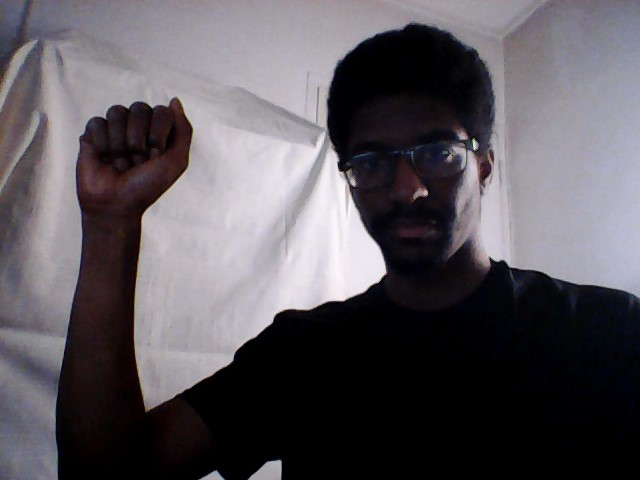a: (75, 94, 197, 213)
